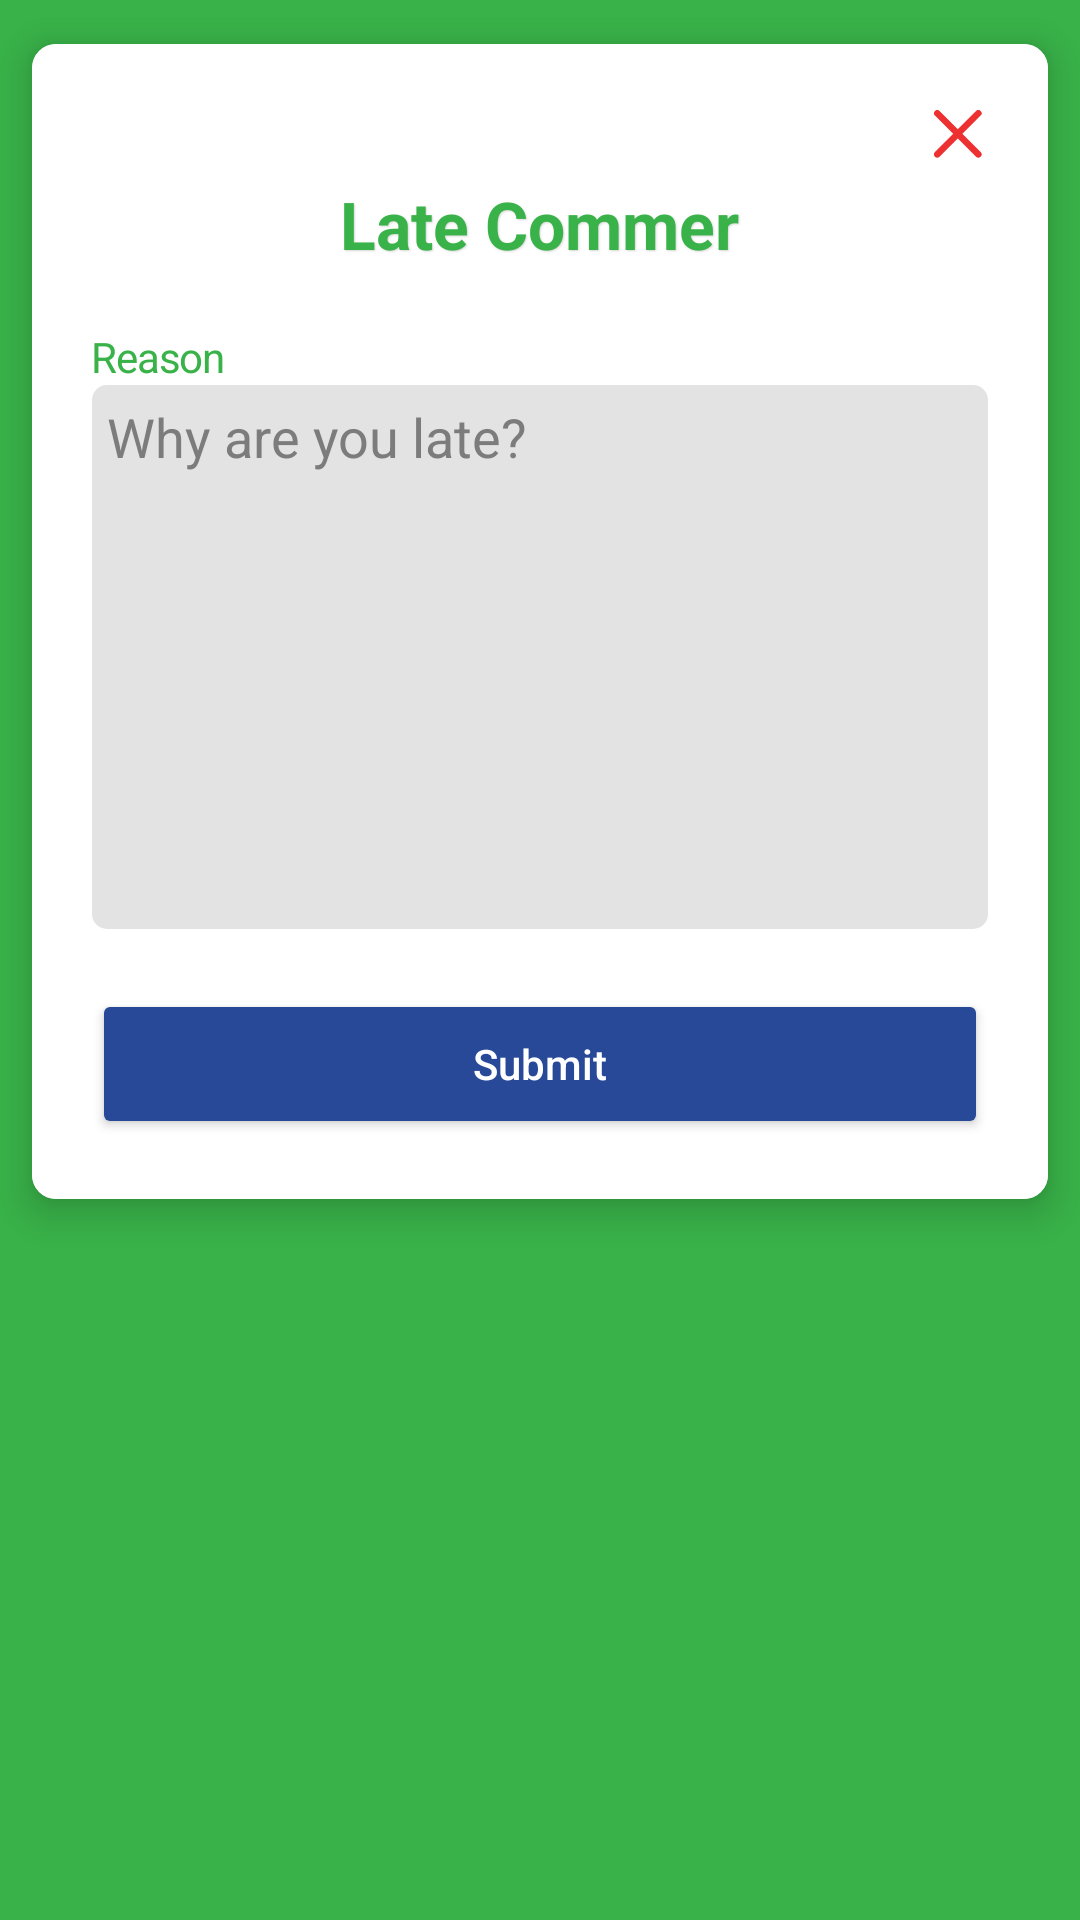

Screen size 1080px×1920px. Icon name, then its box in pixels as (x1, y1, x2, y2):
close: (934, 110, 982, 158)
